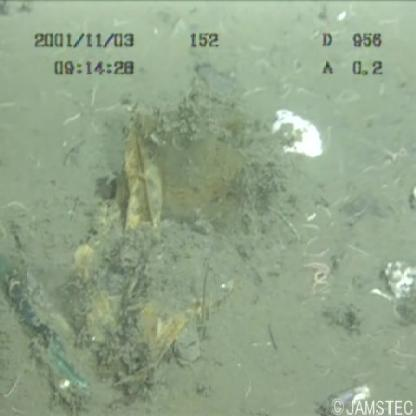Rác: (3, 110, 234, 416)
